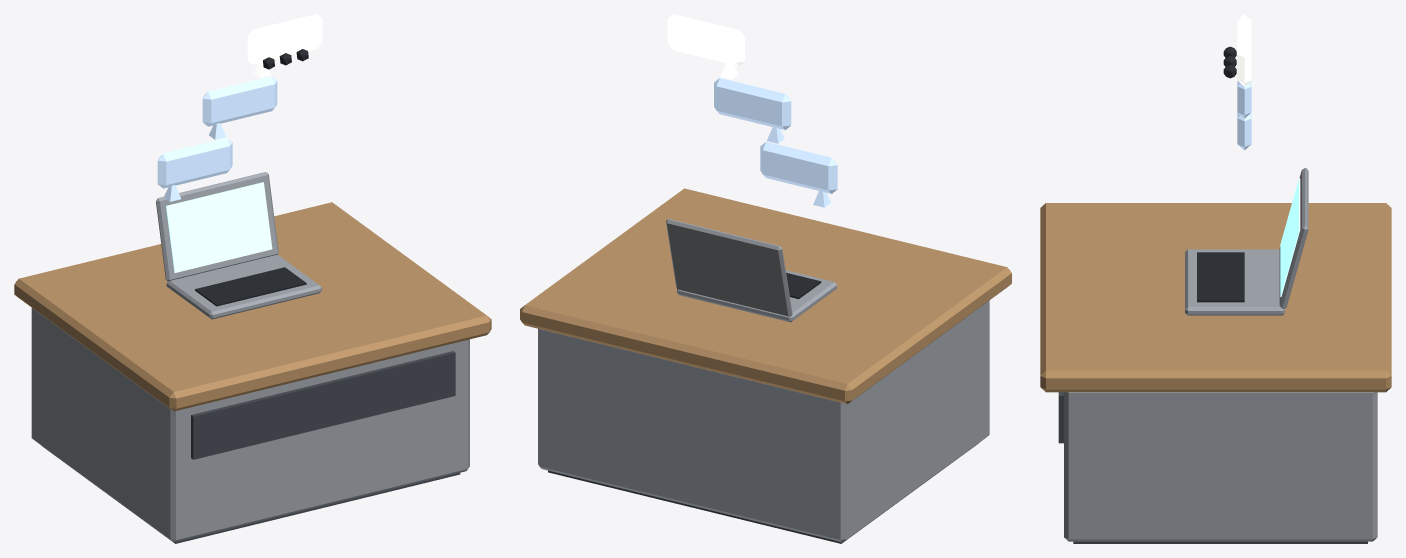
The model's file is quickreply_p0_4.glb.
The picture shows the model from 3 angles, left to right: view 1: azimuth 30°, elevation 25°; view 2: azimuth 150°, elevation 25°; view 3: azimuth 270°, elevation 25°; orthographic projection. The views are drawn at different scales.
Visible parts, largest first — view 1: quickreply_p0_4_mesh_Desk, quickreply_p0_4_mesh; view 2: quickreply_p0_4_mesh_Desk, quickreply_p0_4_mesh; view 3: quickreply_p0_4_mesh_Desk, quickreply_p0_4_mesh.
Boxes of the visible parts, x1,y1,x2,y2 form: quickreply_p0_4_mesh_Desk: [14, 202, 491, 543]; quickreply_p0_4_mesh: [156, 14, 322, 319]; quickreply_p0_4_mesh_Desk: [520, 188, 1011, 543]; quickreply_p0_4_mesh: [666, 14, 837, 322]; quickreply_p0_4_mesh_Desk: [1040, 203, 1391, 543]; quickreply_p0_4_mesh: [1185, 14, 1308, 315].
Size of the model in its own units: 0.86 by 1.07 by 0.74.
